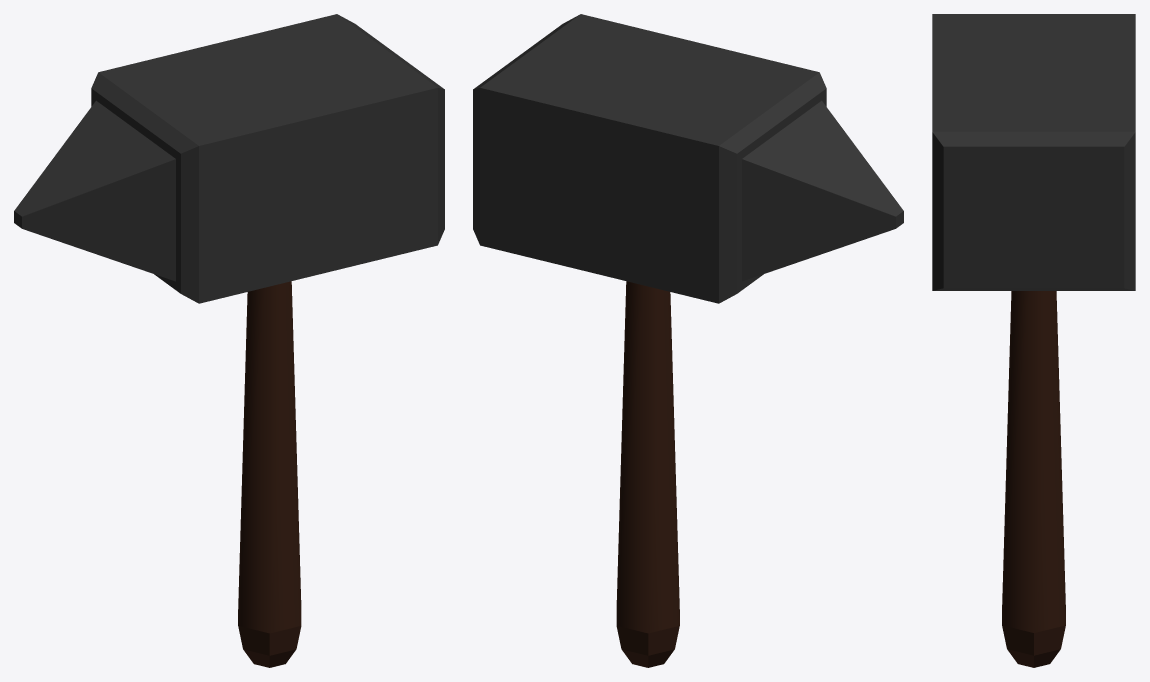
File: SM_hammer_blacksmith.fbx
3 views of the same model, side by side, from view 1: azimuth 30°, elevation 25°; view 2: azimuth 150°, elevation 25°; view 3: azimuth 270°, elevation 25° (orthographic).
Visible parts, largest first — view 1: Object526; view 2: Object526; view 3: Object526.
Part boxes in pixels (x1,y1,x2,y2): Object526: [14, 14, 444, 667]; Object526: [473, 14, 903, 667]; Object526: [932, 14, 1135, 667].
Bounding box in the file's own units: 15.85 × 23.03 × 7.25.
